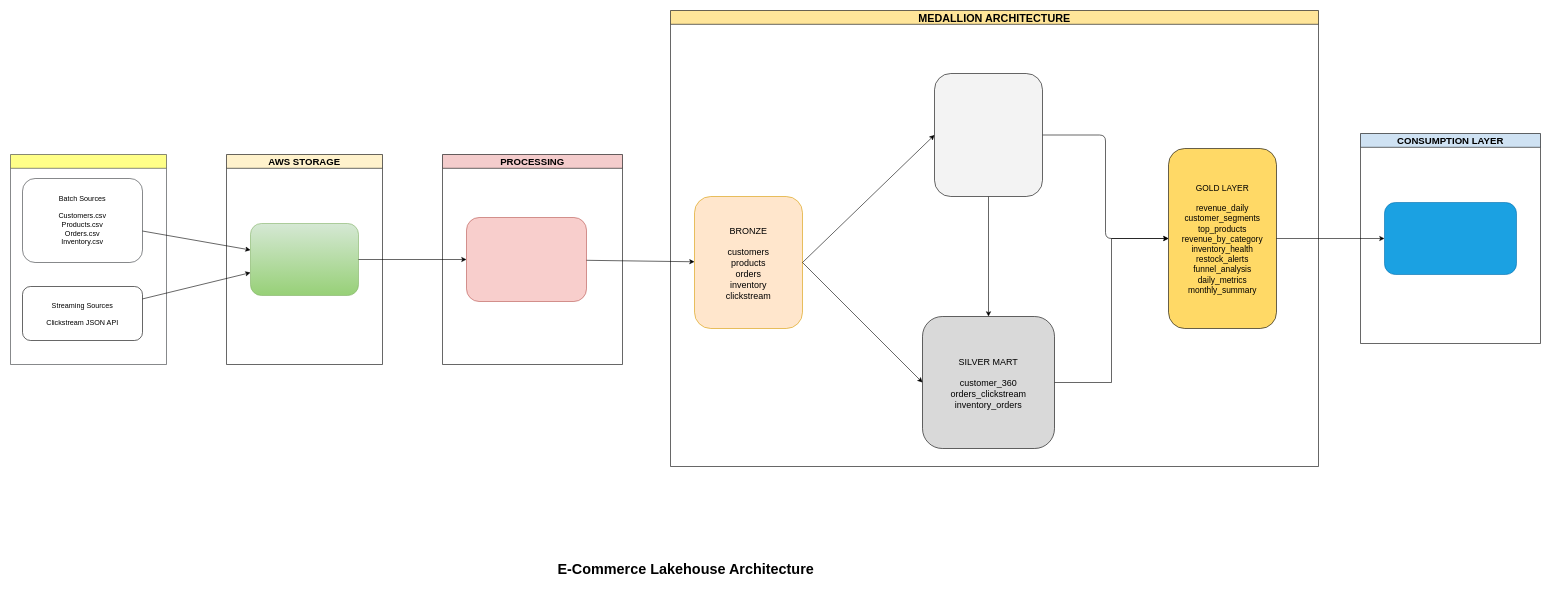
This 1551x591 diagram has some shape labels left out. Each missing label, with the box of its shape:
Amazon S3 Landing Zone Raw Files Delta Storage: (250, 223, 358, 296)
DATA SOURCES: (10, 154, 166, 364)
Databricks Auto Loader PySpark Delta Lake Batch + Streaming: (466, 217, 586, 302)
Power BI / Dashboards KPIs Reports Business Insights: (1384, 202, 1516, 274)
SILVER customers products orders inventory clickstream: (934, 73, 1042, 196)
